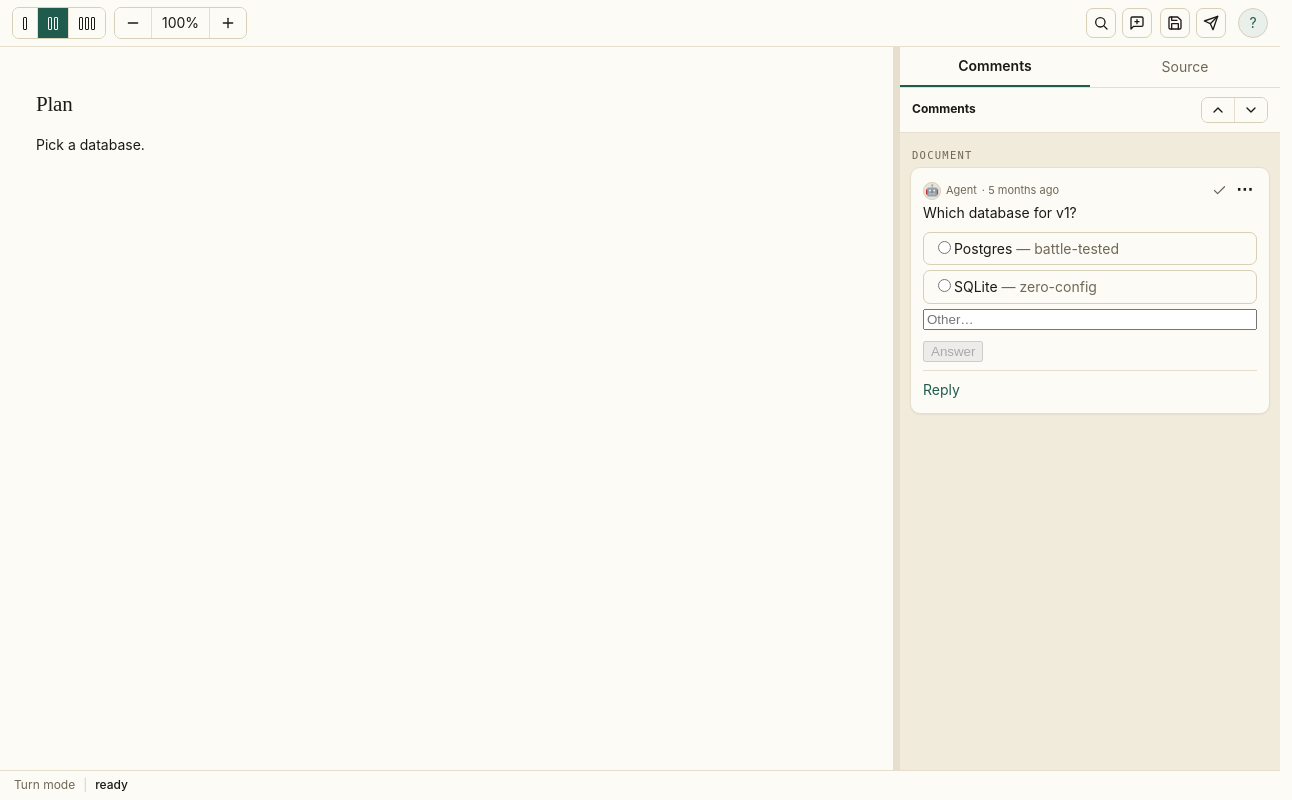
Test: App choice answer flow (memory-backed) › Finish turn nudges once to save an unsaved answer, then lets the turn through
// Pick a choice but DON'T click Answer → an unsaved answer.
Click the radio button labelled "Postgres — battle-tested" at (944, 247), box x1=938 y1=241 x2=951 y2=254
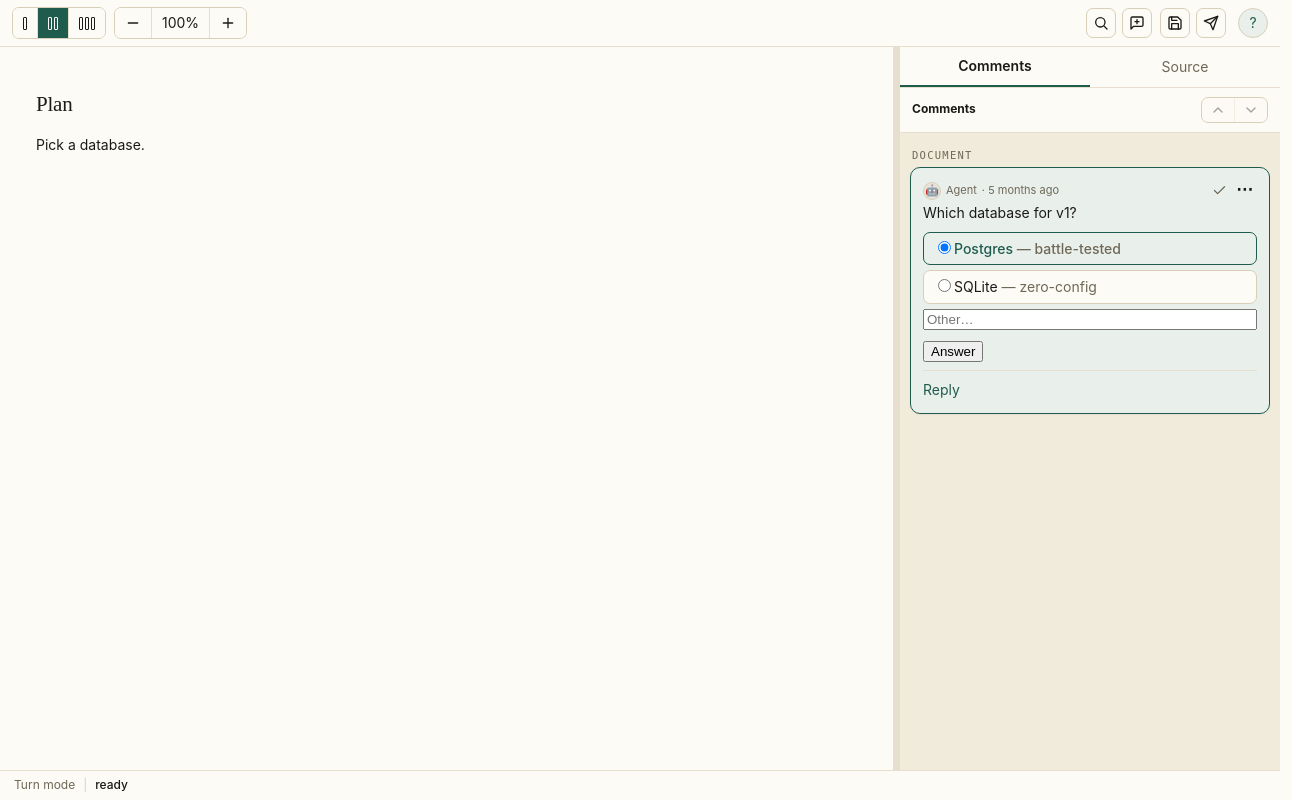
Click the button named "finish turn" at (1211, 23), box x1=1196 y1=8 x2=1226 y2=38
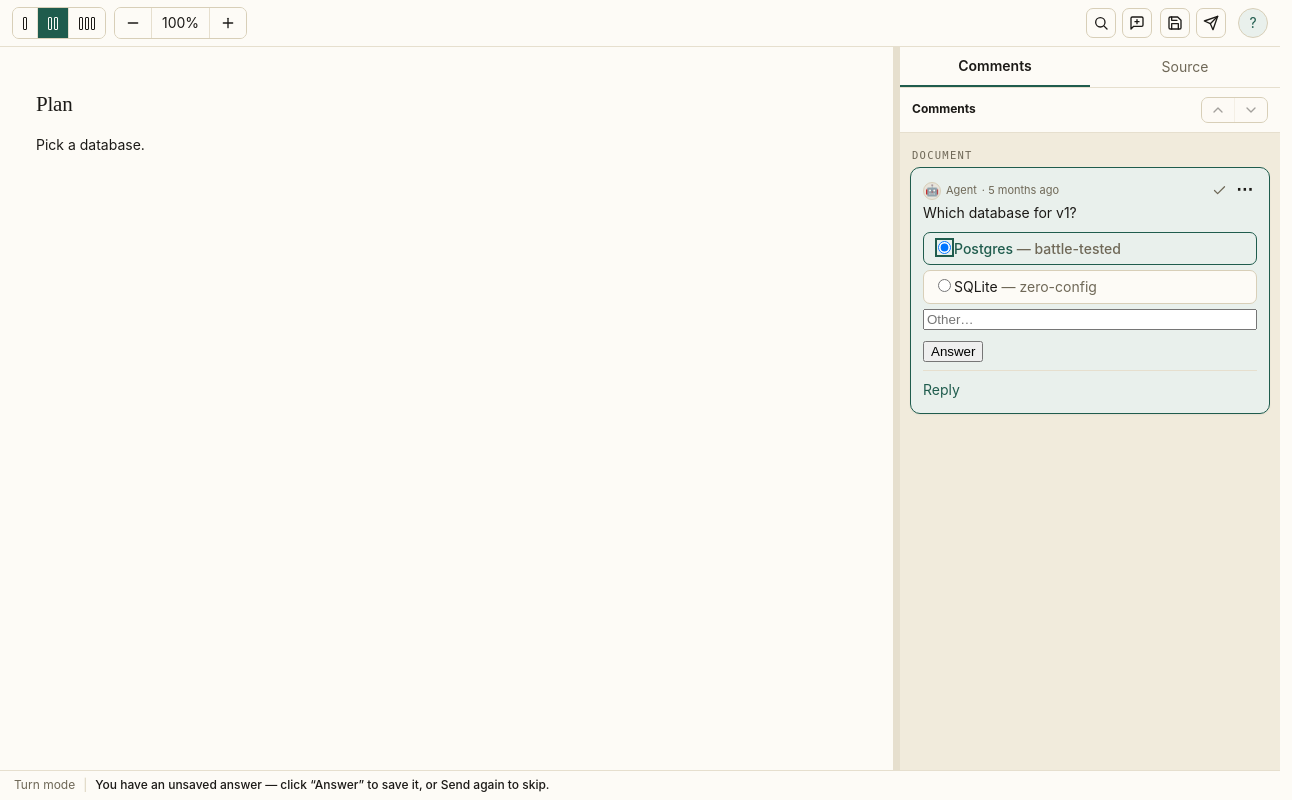
Expected: the text "Agent is thinking" is not shown
Expected: the text "unsaved answer" is shown, x1=95 y1=777 x2=550 y2=792
// Second Finish turn: this question was already nudged → the turn proceeds.
Click the button named "finish turn" at (1211, 23), box x1=1196 y1=8 x2=1226 y2=38
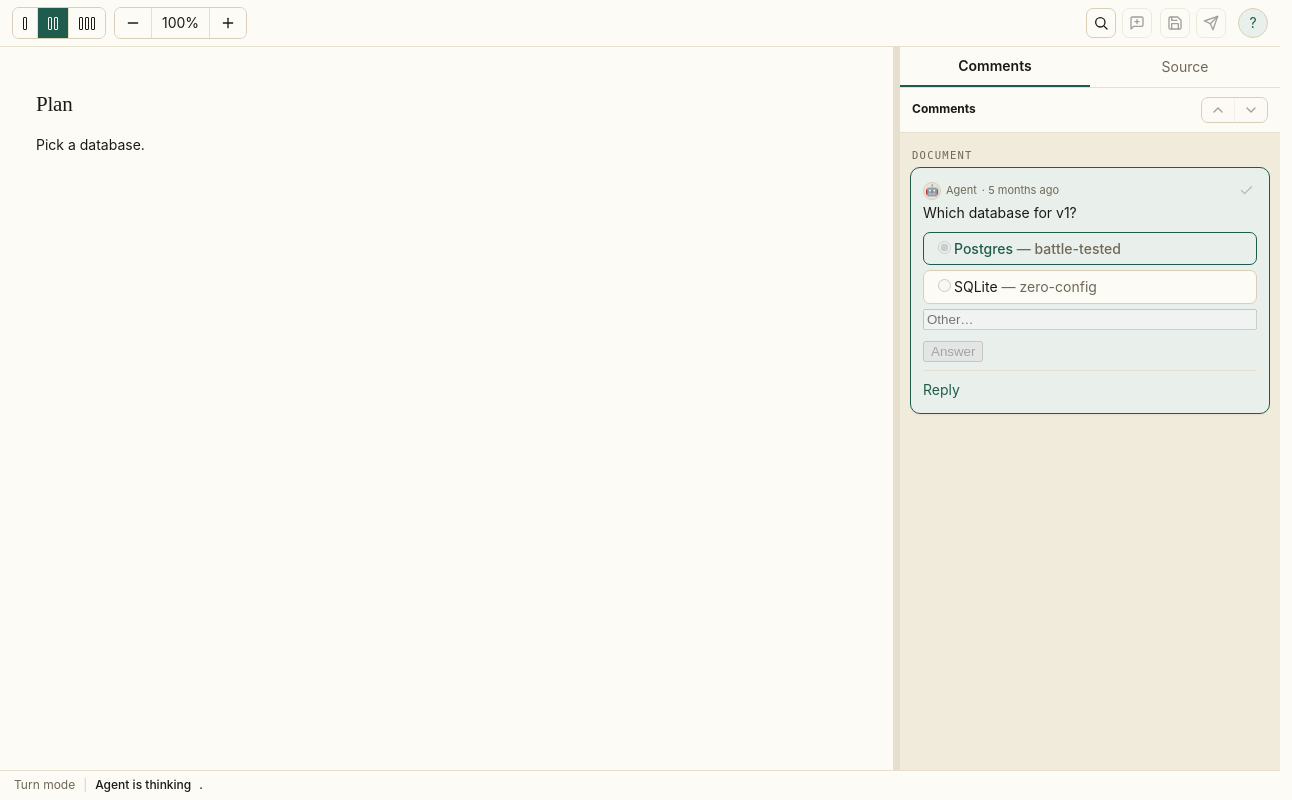
Expected: the text "Agent is thinking" is shown, x1=95 y1=777 x2=191 y2=792
